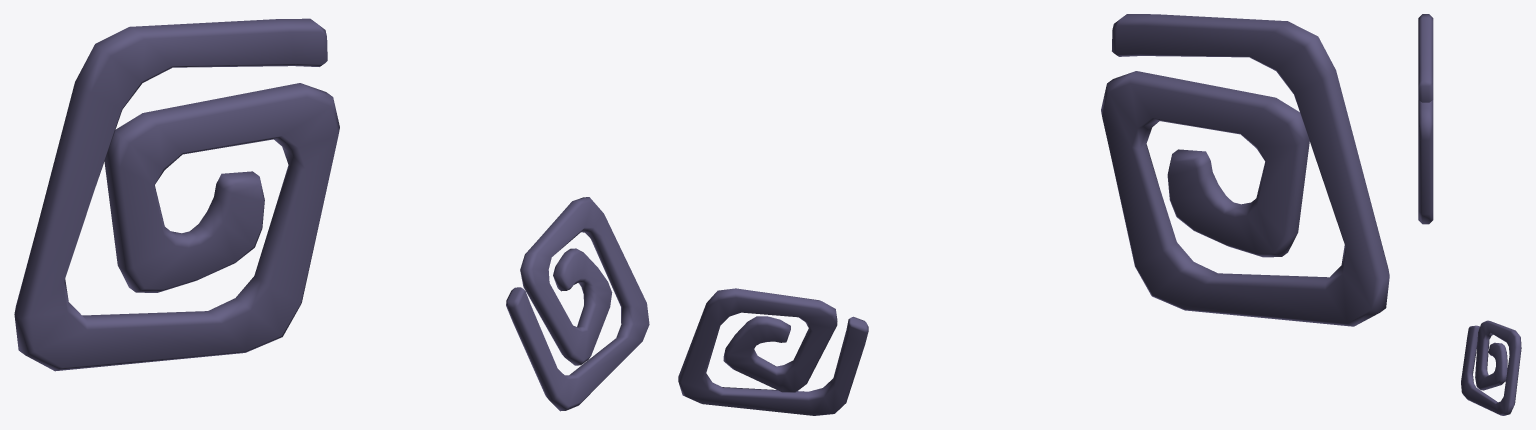
File: Emotion_Dizzys.fbx
3 views of the same model, side by side, from view 1: azimuth 30°, elevation 25°; view 2: azimuth 150°, elevation 25°; view 3: azimuth 270°, elevation 25° (orthographic). The views are drawn at different scales.
Visible parts, largest first — view 1: Dizzy (×2); view 2: Dizzy (×2); view 3: Dizzy (×2).
Part boxes in pixels (<box>): Dizzy (×2): <box>14,18,649,411</box>; Dizzy (×2): <box>678,14,1389,415</box>; Dizzy (×2): <box>1418,14,1521,415</box>.
Bounding box in the file's own units: 85.2 × 60.26 × 21.34.
